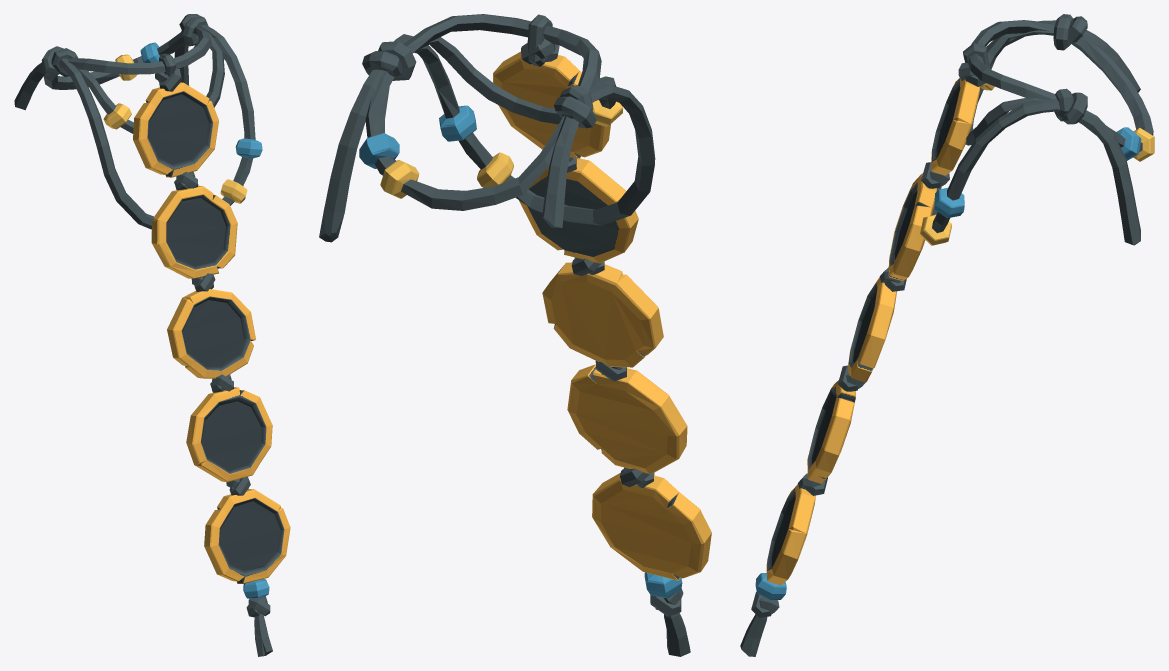
The model's file is CharSkyKid_Wing_TreasureCoin.glb.
3 views of the same model, side by side, from view 1: azimuth 30°, elevation 25°; view 2: azimuth 150°, elevation 25°; view 3: azimuth 270°, elevation 25° (orthographic). The views are drawn at different scales.
Parts seen in each view (by area): view 1: CharSkyKid_Wing_TreasureCoin; view 2: CharSkyKid_Wing_TreasureCoin; view 3: CharSkyKid_Wing_TreasureCoin.
Boxes of the visible parts, x1,y1,x2,y2 form: CharSkyKid_Wing_TreasureCoin: (14, 14, 290, 656); CharSkyKid_Wing_TreasureCoin: (319, 14, 711, 656); CharSkyKid_Wing_TreasureCoin: (740, 14, 1154, 656).
Bounding box in the file's own units: 3.02 × 8.77 × 5.39.
1 material, 1 textured.
